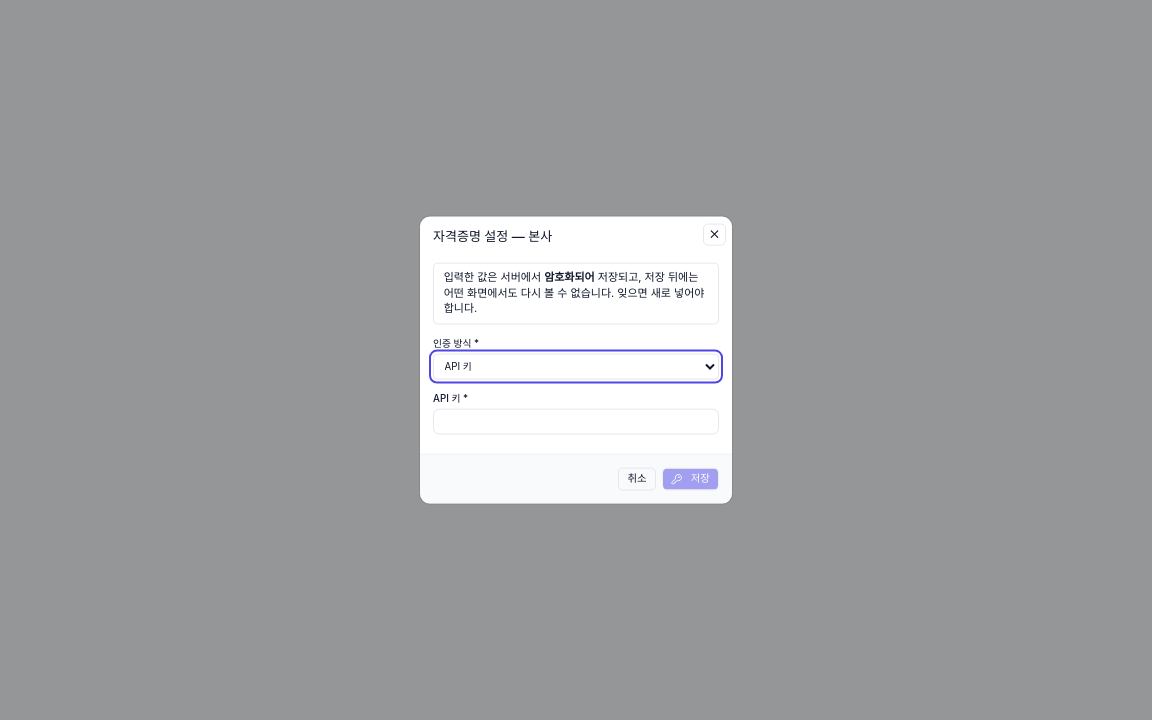
Test: 자격증명 입력 › 형태에 맞는 칸만 보여준다 — vendor 별 폼을 만들지 않는다
Expected: the password field with id "cred-api_key" is shown, [433,408,719,434]
Select "액세스 키 + 시크릿" in the dropdown labelled "인증 방식 *" at x=576, y=366, box [433,353,719,379]
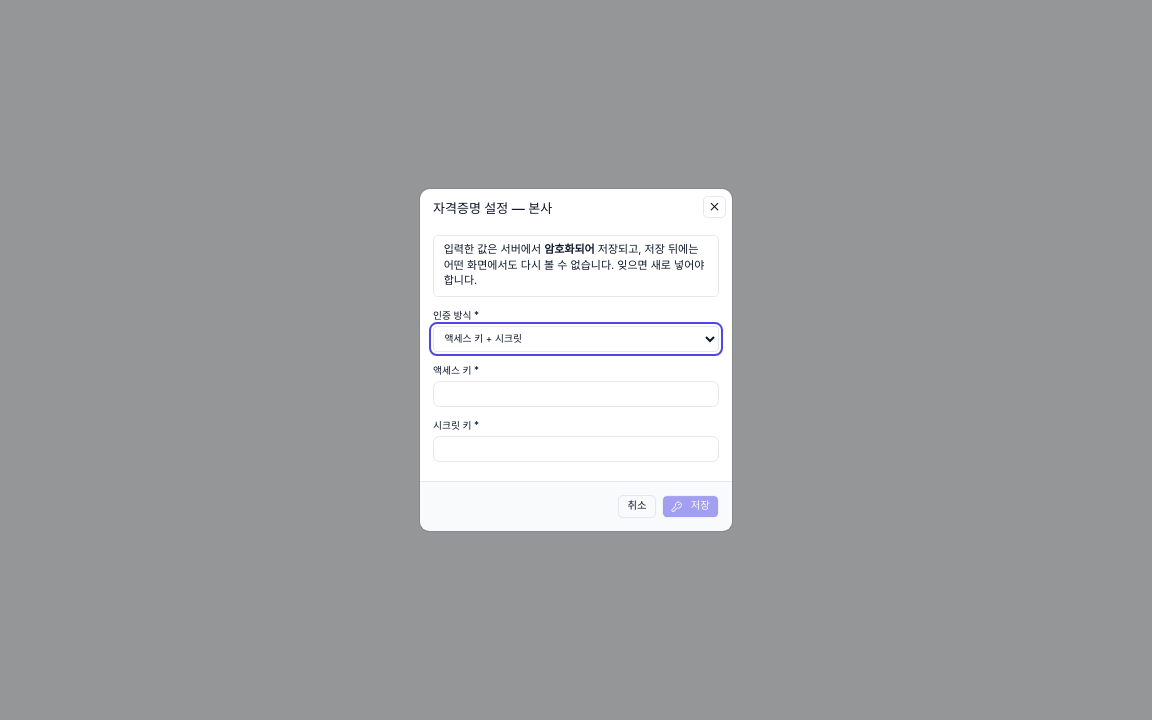
Result: the field with id "cred-access_key" is shown at [433,381,719,407]
Result: the password field with id "cred-secret_key" is shown at [433,436,719,462]
Result: the label with id "cred-api_key" is gone
